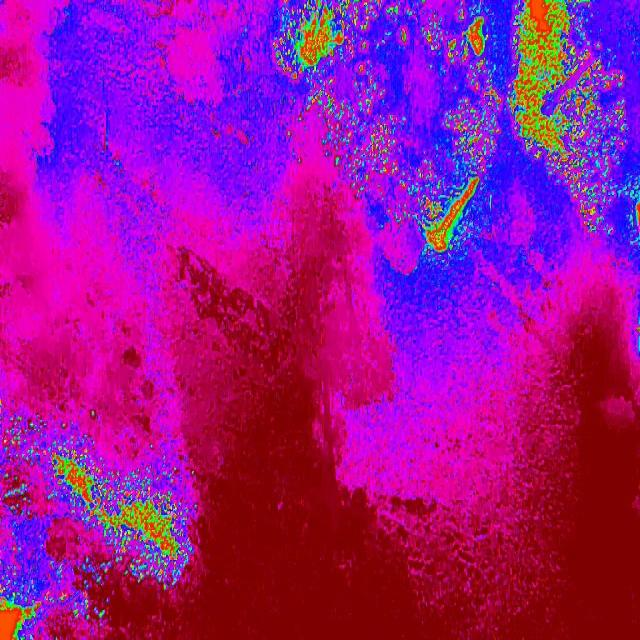fire: (267, 0, 640, 178), (0, 402, 111, 640), (112, 444, 204, 590), (348, 178, 492, 261), (555, 177, 640, 248)
